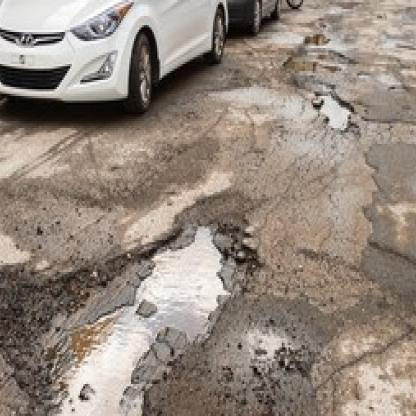pothole: (36, 219, 236, 416), (313, 89, 356, 135), (282, 55, 344, 75)
